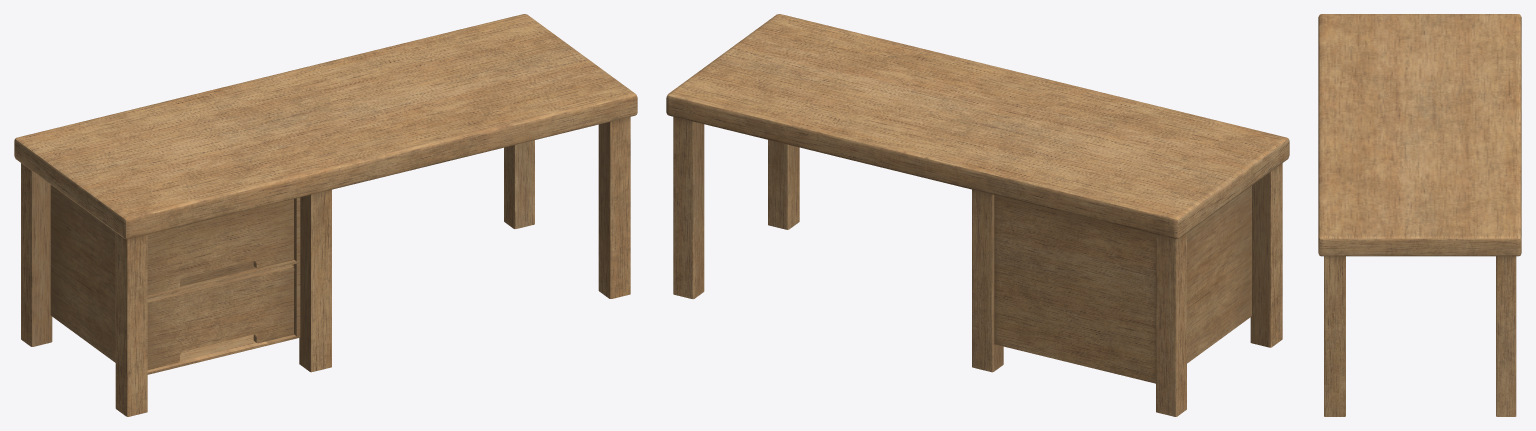
File: desk_M.fbx
3 renders of one model, left to right at view 1: azimuth 30°, elevation 25°; view 2: azimuth 150°, elevation 25°; view 3: azimuth 270°, elevation 25°, orthographic. The views are drawn at different scales.
Parts seen in each view (by area): view 1: desk_desk; view 2: desk_desk; view 3: desk_desk.
Boxes of the visible parts, bbox=[...] form: desk_desk: bbox=[14, 14, 637, 416]; desk_desk: bbox=[666, 14, 1289, 416]; desk_desk: bbox=[1318, 14, 1521, 416].
Bounding box in the file's own units: 0.4519 × 0.169 × 0.1721.
